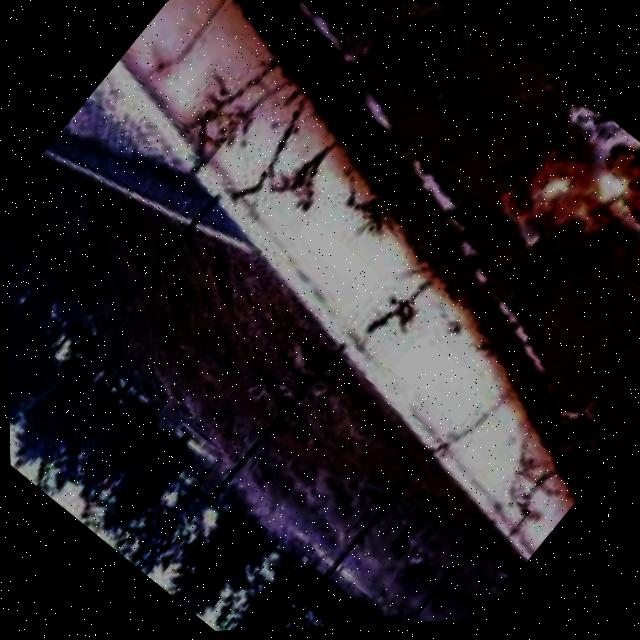Fire: (485, 98, 640, 327)
